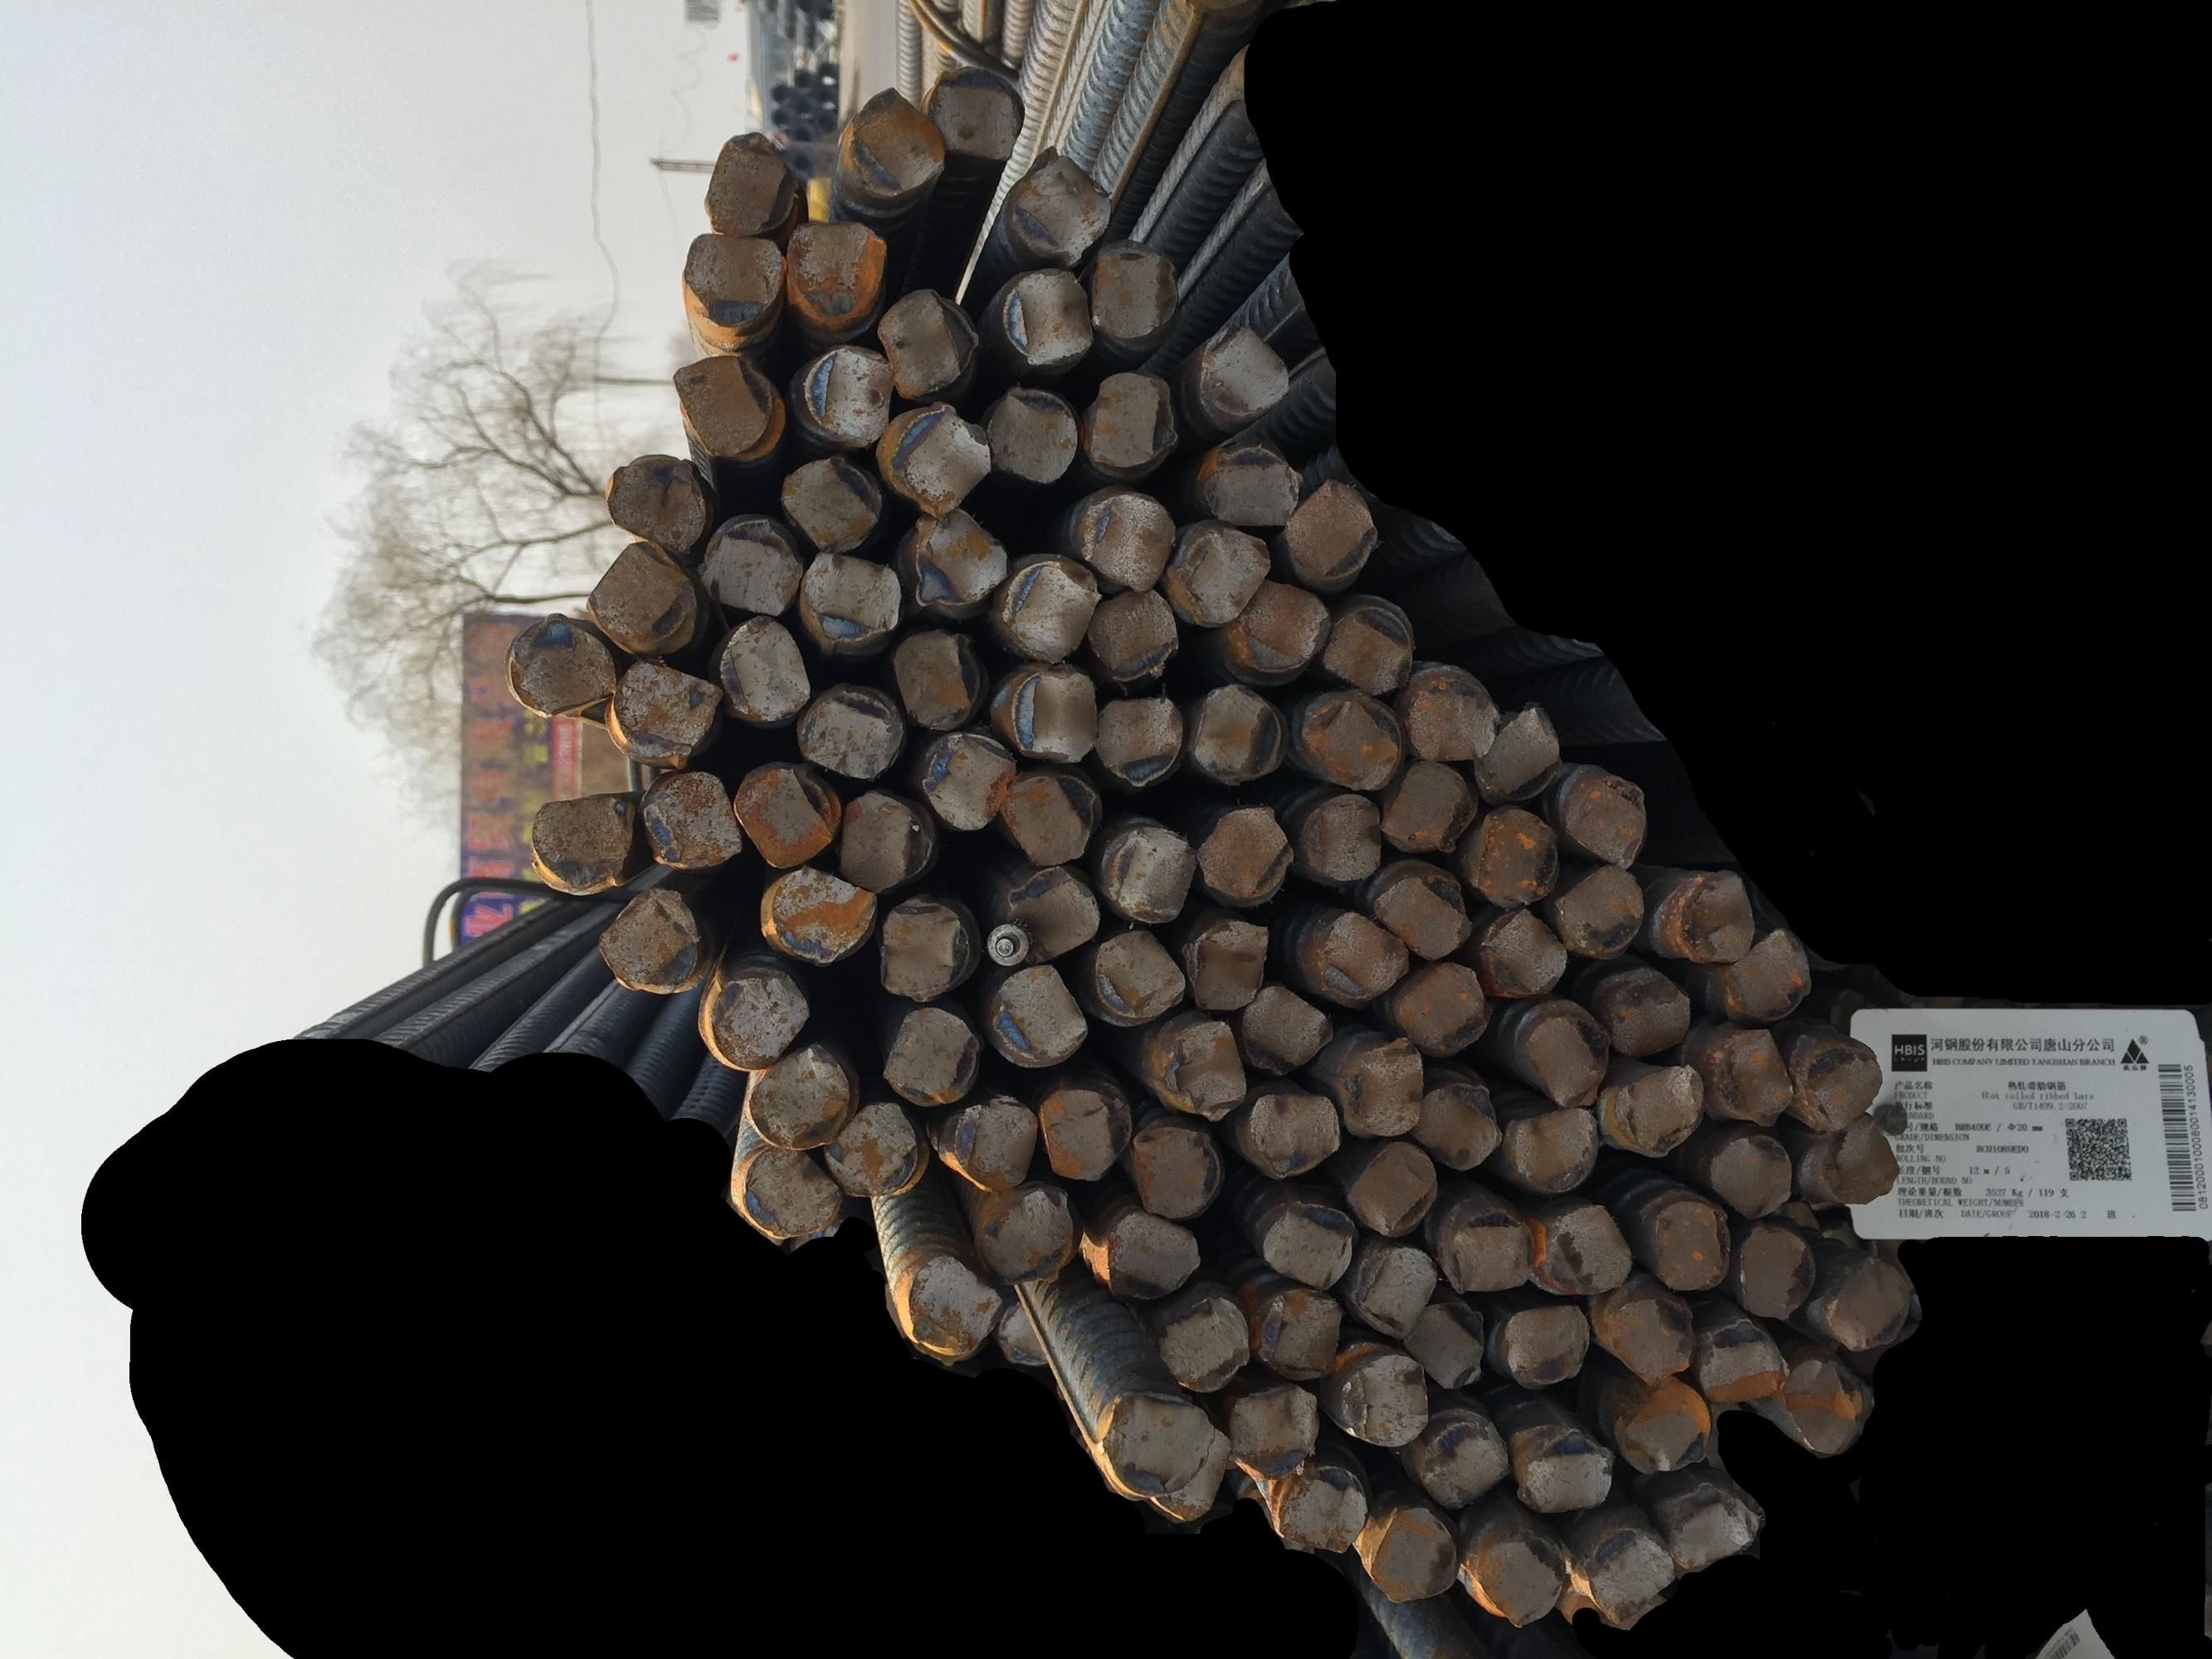bar: (662, 345, 790, 467), (598, 652, 727, 772), (580, 535, 706, 657), (757, 852, 880, 969), (833, 80, 950, 200), (1002, 141, 1116, 265), (884, 399, 994, 526), (502, 606, 622, 721), (725, 758, 847, 871), (976, 953, 1093, 1068), (777, 213, 889, 331), (593, 882, 704, 999), (994, 552, 1105, 669), (1295, 678, 1407, 795), (1098, 1387, 1213, 1499), (743, 1035, 852, 1152), (711, 605, 816, 727), (692, 511, 807, 620), (774, 451, 891, 559), (699, 124, 805, 242), (673, 225, 791, 331), (1215, 575, 1335, 680), (905, 500, 1016, 612), (1607, 1366, 1719, 1478), (633, 763, 746, 873), (526, 788, 638, 897), (795, 680, 908, 788), (873, 281, 971, 404), (699, 967, 814, 1072), (995, 854, 1100, 969), (1095, 814, 1199, 929), (976, 376, 1081, 491), (1279, 472, 1384, 587), (1572, 1521, 1677, 1636), (967, 1183, 1077, 1291), (1771, 1351, 1879, 1460), (795, 545, 906, 652), (992, 769, 1105, 873), (1079, 366, 1184, 479), (879, 1000, 985, 1110), (1074, 488, 1184, 594), (605, 448, 709, 559), (736, 1138, 847, 1243), (797, 338, 899, 451), (873, 889, 973, 1006), (915, 727, 1021, 835), (818, 1093, 922, 1202), (1170, 518, 1274, 627), (905, 1249, 1004, 1364), (1028, 1077, 1135, 1183), (831, 788, 936, 896), (1079, 577, 1184, 685), (1189, 798, 1297, 903), (1600, 1060, 1708, 1164), (924, 61, 1028, 167), (1382, 958, 1494, 1058), (887, 622, 983, 737), (1184, 678, 1286, 784), (1374, 751, 1480, 854), (1462, 1528, 1569, 1631), (1529, 1197, 1635, 1300), (1232, 978, 1340, 1079), (1337, 1342, 1438, 1450), (1654, 1476, 1764, 1575), (1468, 695, 1565, 807), (1086, 922, 1189, 1026), (1100, 1202, 1206, 1304), (1222, 1377, 1323, 1483), (1340, 1136, 1442, 1243), (1002, 666, 1102, 774), (1363, 1500, 1462, 1608), (1595, 1290, 1703, 1389), (1466, 800, 1564, 910), (1152, 1291, 1255, 1394), (1245, 1281, 1347, 1384), (1398, 662, 1499, 767), (950, 1086, 1046, 1195), (1367, 870, 1476, 965), (997, 267, 1098, 369), (1499, 1098, 1602, 1199), (1717, 922, 1818, 1025), (1311, 906, 1415, 1006), (1154, 1014, 1252, 1121), (1128, 1117, 1224, 1225), (1640, 1190, 1736, 1298), (1194, 321, 1295, 422), (1469, 901, 1571, 1002), (1816, 1255, 1917, 1356), (1257, 1197, 1360, 1297), (1346, 1239, 1443, 1344), (1236, 1086, 1342, 1182), (1084, 240, 1184, 342), (1086, 692, 1185, 793), (1314, 599, 1417, 697), (1804, 1108, 1907, 1206), (1555, 767, 1651, 871), (1335, 1033, 1431, 1138), (1192, 441, 1302, 532), (1290, 788, 1389, 887), (1436, 1202, 1539, 1298), (1520, 1009, 1614, 1114), (1593, 965, 1698, 1060), (1708, 1021, 1795, 1133), (1672, 863, 1762, 969), (1499, 1295, 1595, 1394), (1405, 1077, 1501, 1176), (1551, 857, 1645, 958), (1726, 1218, 1816, 1323), (1414, 1413, 1510, 1511), (1515, 1427, 1618, 1518), (1400, 1293, 1490, 1396), (1184, 913, 1272, 1018), (1143, 1425, 1231, 1530), (1703, 1129, 1797, 1225), (1794, 1037, 1884, 1136), (1271, 1466, 1368, 1556), (1693, 1331, 1795, 1408), (992, 1293, 1058, 1370)
